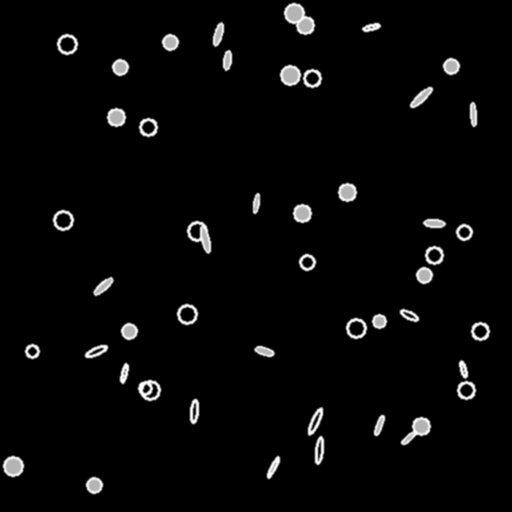pseudomonas: (409, 85, 433, 109), (306, 407, 324, 435), (92, 276, 114, 296), (84, 344, 108, 358), (199, 226, 211, 252), (266, 456, 280, 478), (399, 308, 419, 322), (212, 23, 224, 45), (373, 414, 385, 436), (314, 437, 324, 463), (254, 345, 274, 357), (400, 431, 416, 445), (423, 219, 445, 227), (190, 400, 198, 422), (252, 194, 260, 212), (120, 364, 128, 382), (362, 23, 380, 31), (223, 51, 231, 69), (470, 103, 476, 125), (459, 361, 467, 377)
synechocystis: (54, 211, 72, 229), (188, 222, 206, 240), (141, 381, 159, 399), (281, 66, 299, 84), (285, 4, 303, 22), (178, 305, 196, 323), (58, 35, 76, 53), (347, 319, 365, 337), (4, 457, 22, 475), (140, 119, 156, 135), (294, 205, 310, 221), (472, 323, 488, 339), (413, 418, 429, 434), (339, 184, 355, 200), (297, 17, 313, 33), (426, 247, 442, 263), (304, 70, 320, 86), (458, 382, 474, 398), (108, 109, 124, 125), (457, 225, 471, 239), (417, 268, 431, 282), (87, 478, 101, 492), (113, 60, 127, 74), (122, 324, 136, 338), (300, 255, 314, 269), (163, 35, 177, 49), (444, 59, 458, 73), (373, 315, 385, 327), (26, 345, 38, 357), (139, 382, 151, 394)
